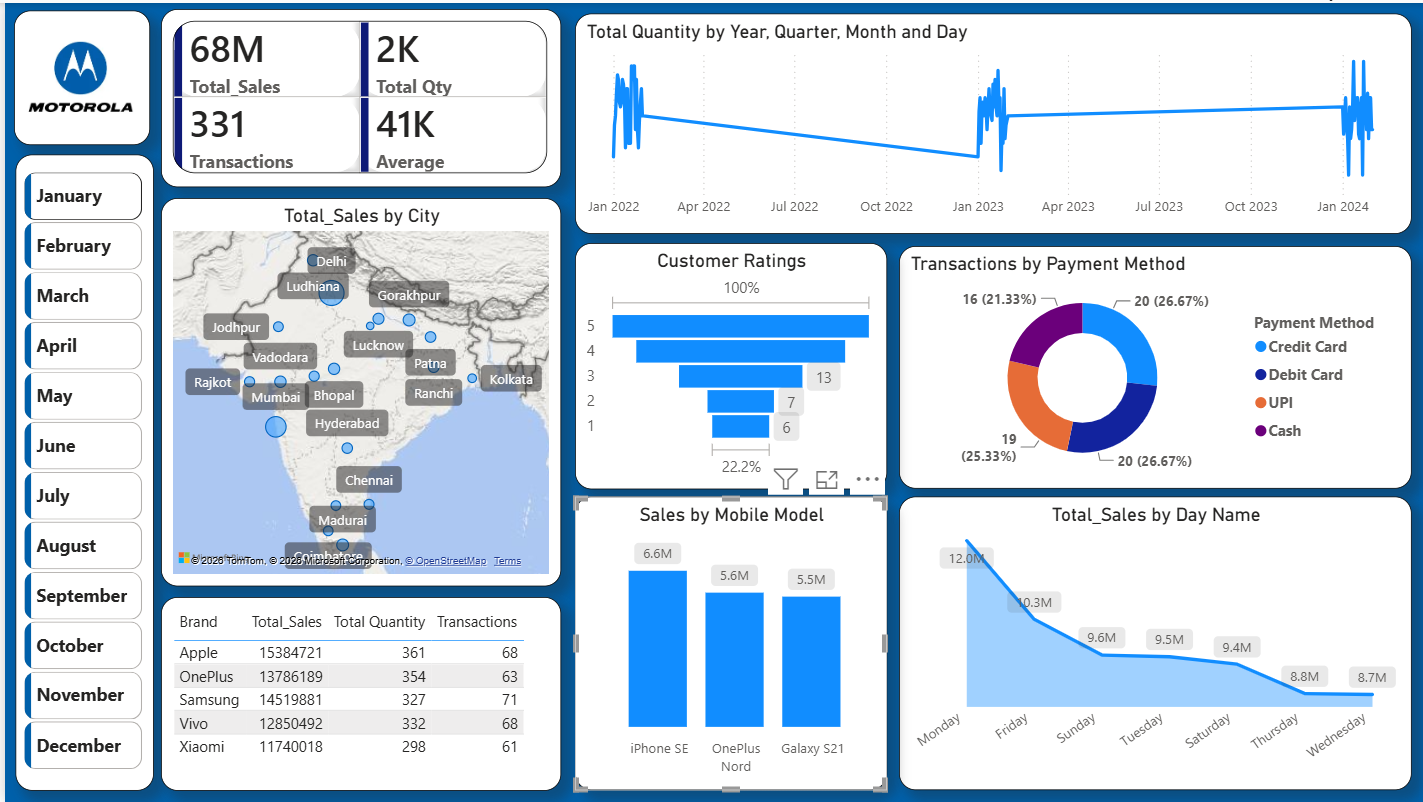

The dashboard page shown, as its layout file describes it:
{"tool":"powerbi","page":{"name":"Page 1","canvas":[1280,720],"ordinal":0},"visuals":[{"type":"shape","box":[7.5,6.2,122.5,121.2],"z":0},{"type":"image","box":[8.8,18.8,118.8,95],"z":1000},{"type":"shape","box":[9.5,136.5,124.4,573.1],"z":2000},{"type":"listSlicer","fields":{"Values":["Sheet1.Date.Variation.Date Hierarchy.Month"]},"box":[12.2,147.3,116.2,554.2],"z":3000},{"type":"cardVisual","title":"TOTAL SALES","fields":{"Data":["Sheet1.Total_Sales","Sheet1.Total Quantity","Sheet1.Transactions","Sheet1.Average"]},"box":[140.6,5.4,360.9,160.9],"z":4000},{"type":"map","fields":{"Category":["Sheet1.City"],"Size":["Sheet1.Total_Sales"]},"box":[140.6,175.7,360.9,350.1],"z":5000},{"type":"lineChart","fields":{"Y":["Sheet1.Total Quantity"],"Category":["Sheet1.Date.Variation.Date Hierarchy.Year","Sheet1.Date.Variation.Date Hierarchy.Quarter","Sheet1.Date.Variation.Date Hierarchy.Month","Sheet1.Date.Variation.Date Hierarchy.Day"]},"box":[513.3,9.1,754.1,198.4],"z":6000},{"type":"columnChart","title":"Sales by Mobile Model","fields":{"Category":["Sheet1.Mobile Model"],"Y":["Sheet1.Total_Sales"]},"box":[513.7,444.7,281.2,264.9],"z":7000},{"type":"donutChart","fields":{"Category":["Sheet1.Payment Method"],"Y":["Sheet1.Transactions"]},"box":[805.6,219,462.3,219],"z":8000},{"type":"funnel","title":" Customer Ratings","fields":{"Category":["Sheet1.Customer Ratings"],"Y":["CountNonNull(Sheet1.Customer Ratings)"]},"box":[513.7,216.3,281.2,221.7],"z":9000},{"type":"areaChart","fields":{"Category":["Sheet1.Day Name"],"Y":["Sheet1.Total_Sales"]},"box":[805.6,444.7,462.3,264.9],"z":10000},{"type":"tableEx","fields":{"Values":["Sheet1.Brand","Sheet1.Total_Sales","Sheet1.Total Quantity","Sheet1.Transactions"]},"box":[140.6,535.3,360.9,174.4],"z":11000}]}

Visuals, with their boxes in screenshot pixels (x1, y1, x2, y2), scaled from the page's 1280x720 canvas onto the 1423x802 screenshot:
shape: 8,7,145,142
image: 10,21,142,127
shape: 11,152,149,790
listSlicer - Sheet1.Date.Variation.Date Hierarchy.Month: 14,164,143,781
"TOTAL SALES" cardVisual: 156,6,558,185
map - Sheet1.City x Sheet1.Total_Sales: 156,196,558,586
lineChart - Sheet1.Total Quantity x Sheet1.Date.Variation.Date Hierarchy.Year: 571,10,1409,231
"Sales by Mobile Model" columnChart: 571,495,884,790
donutChart - Sheet1.Payment Method x Sheet1.Transactions: 896,244,1410,488
" Customer Ratings" funnel: 571,241,884,488
areaChart - Sheet1.Day Name x Sheet1.Total_Sales: 896,495,1410,790
tableEx - Sheet1.Brand x Sheet1.Total_Sales: 156,596,558,791
